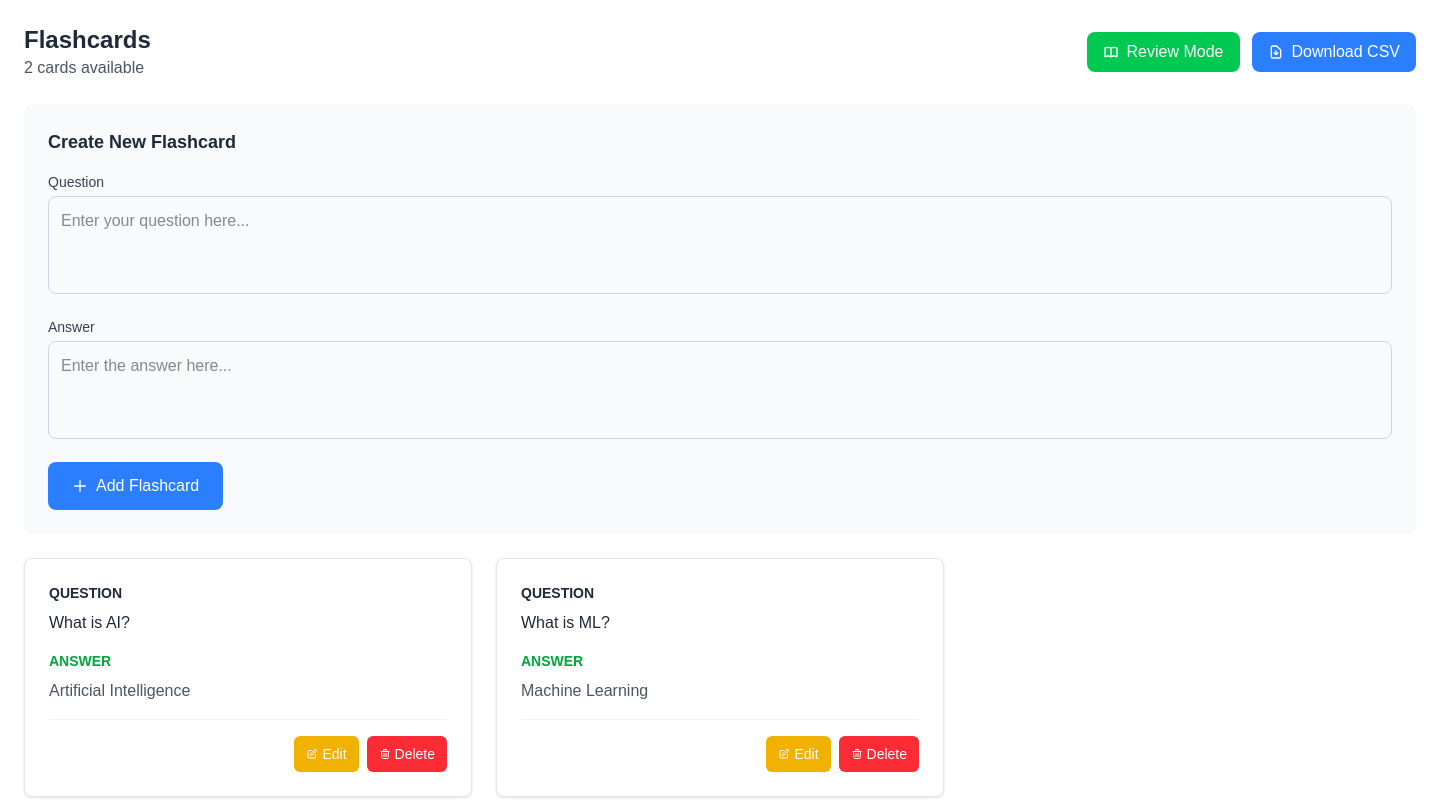
Test: FlashcardsTab Component › navigates between flashcards
Step 1. Click the button "Review Mode" → (1163, 52), box left=1087, top=32, right=1240, bottom=72
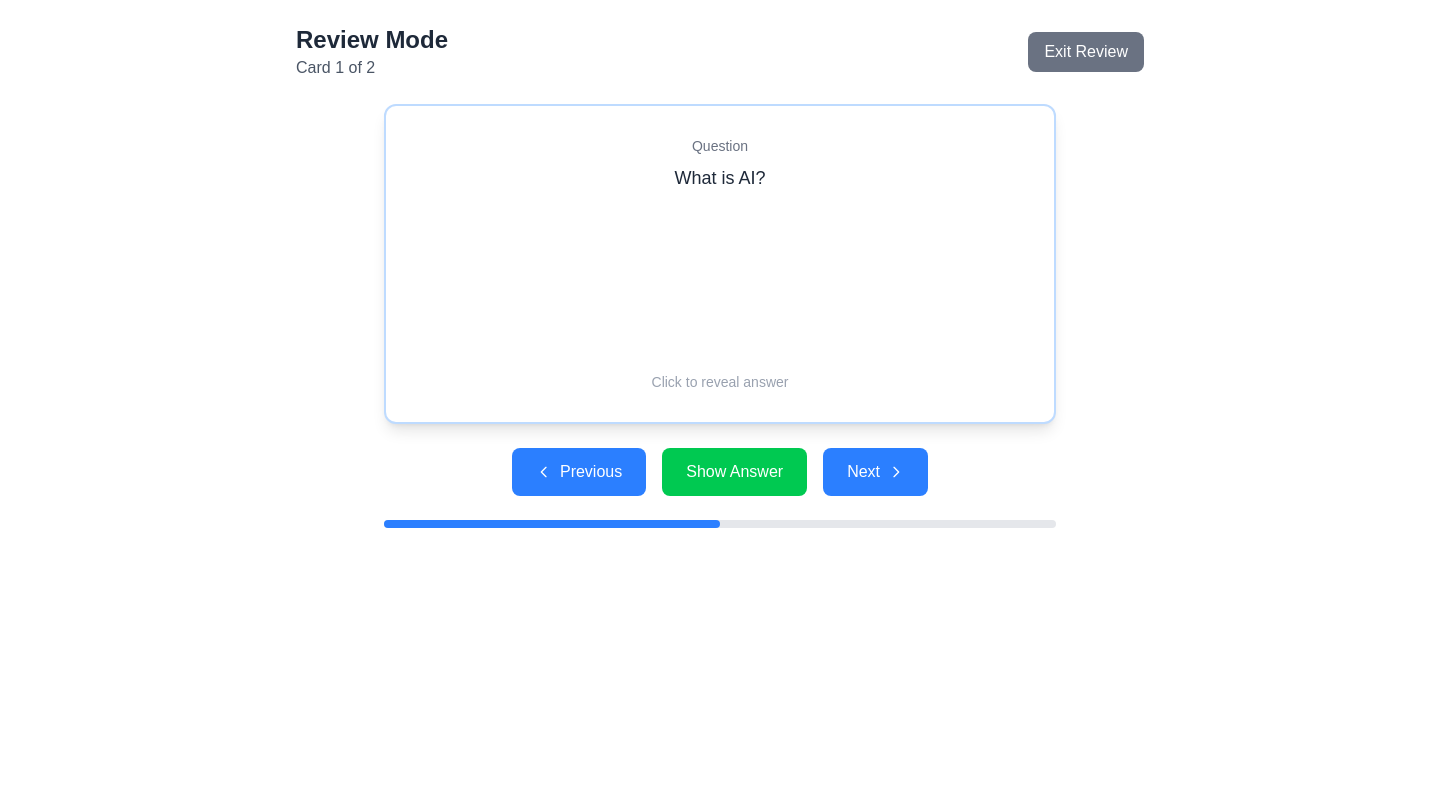
expect the text "Card 1 of 2" is shown: met, box left=296, top=59, right=375, bottom=76
Navigate to next card
Step 2. Click the button "Next" → (876, 472), box left=823, top=448, right=928, bottom=496
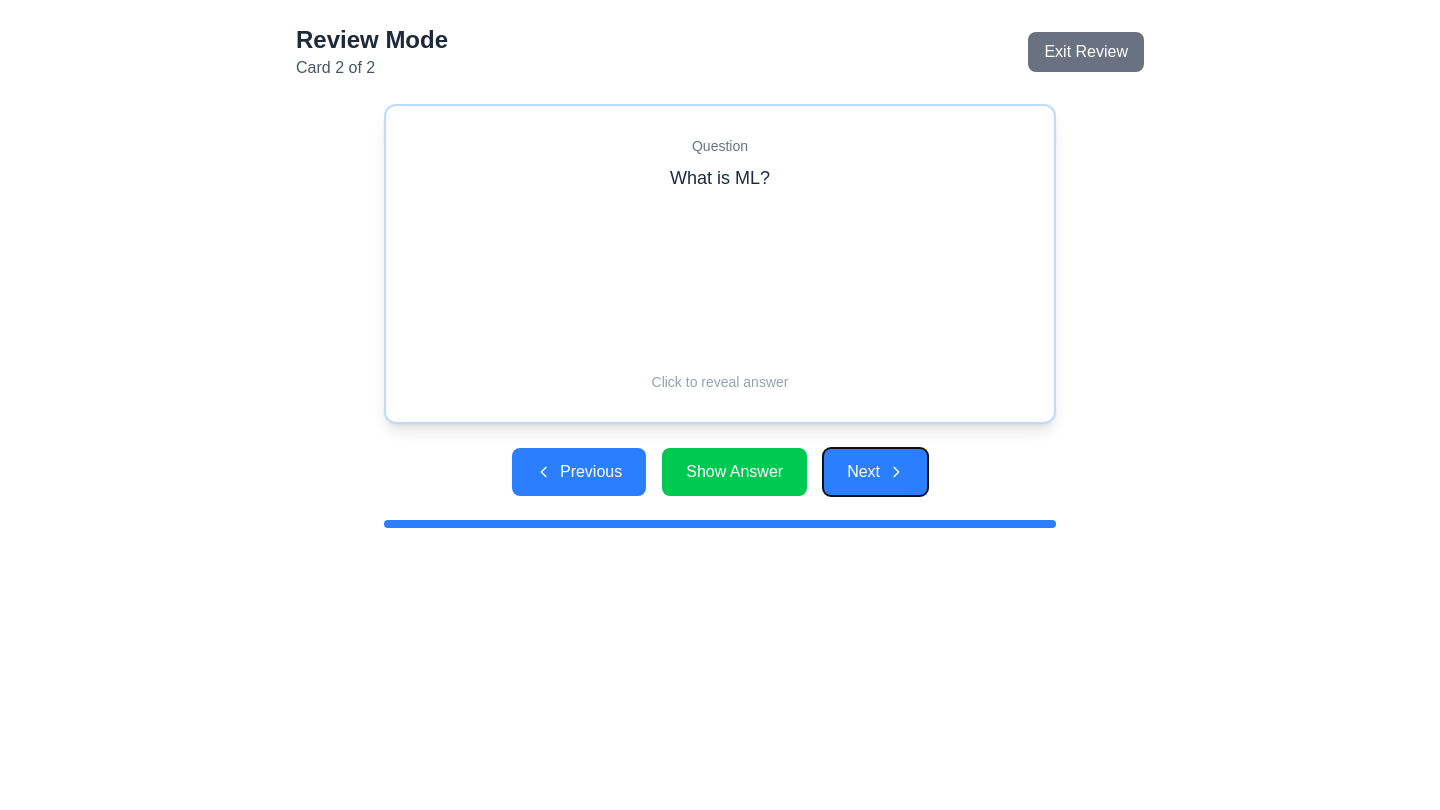
expect the text "Card 2 of 2" is shown: met, box left=296, top=59, right=375, bottom=76
